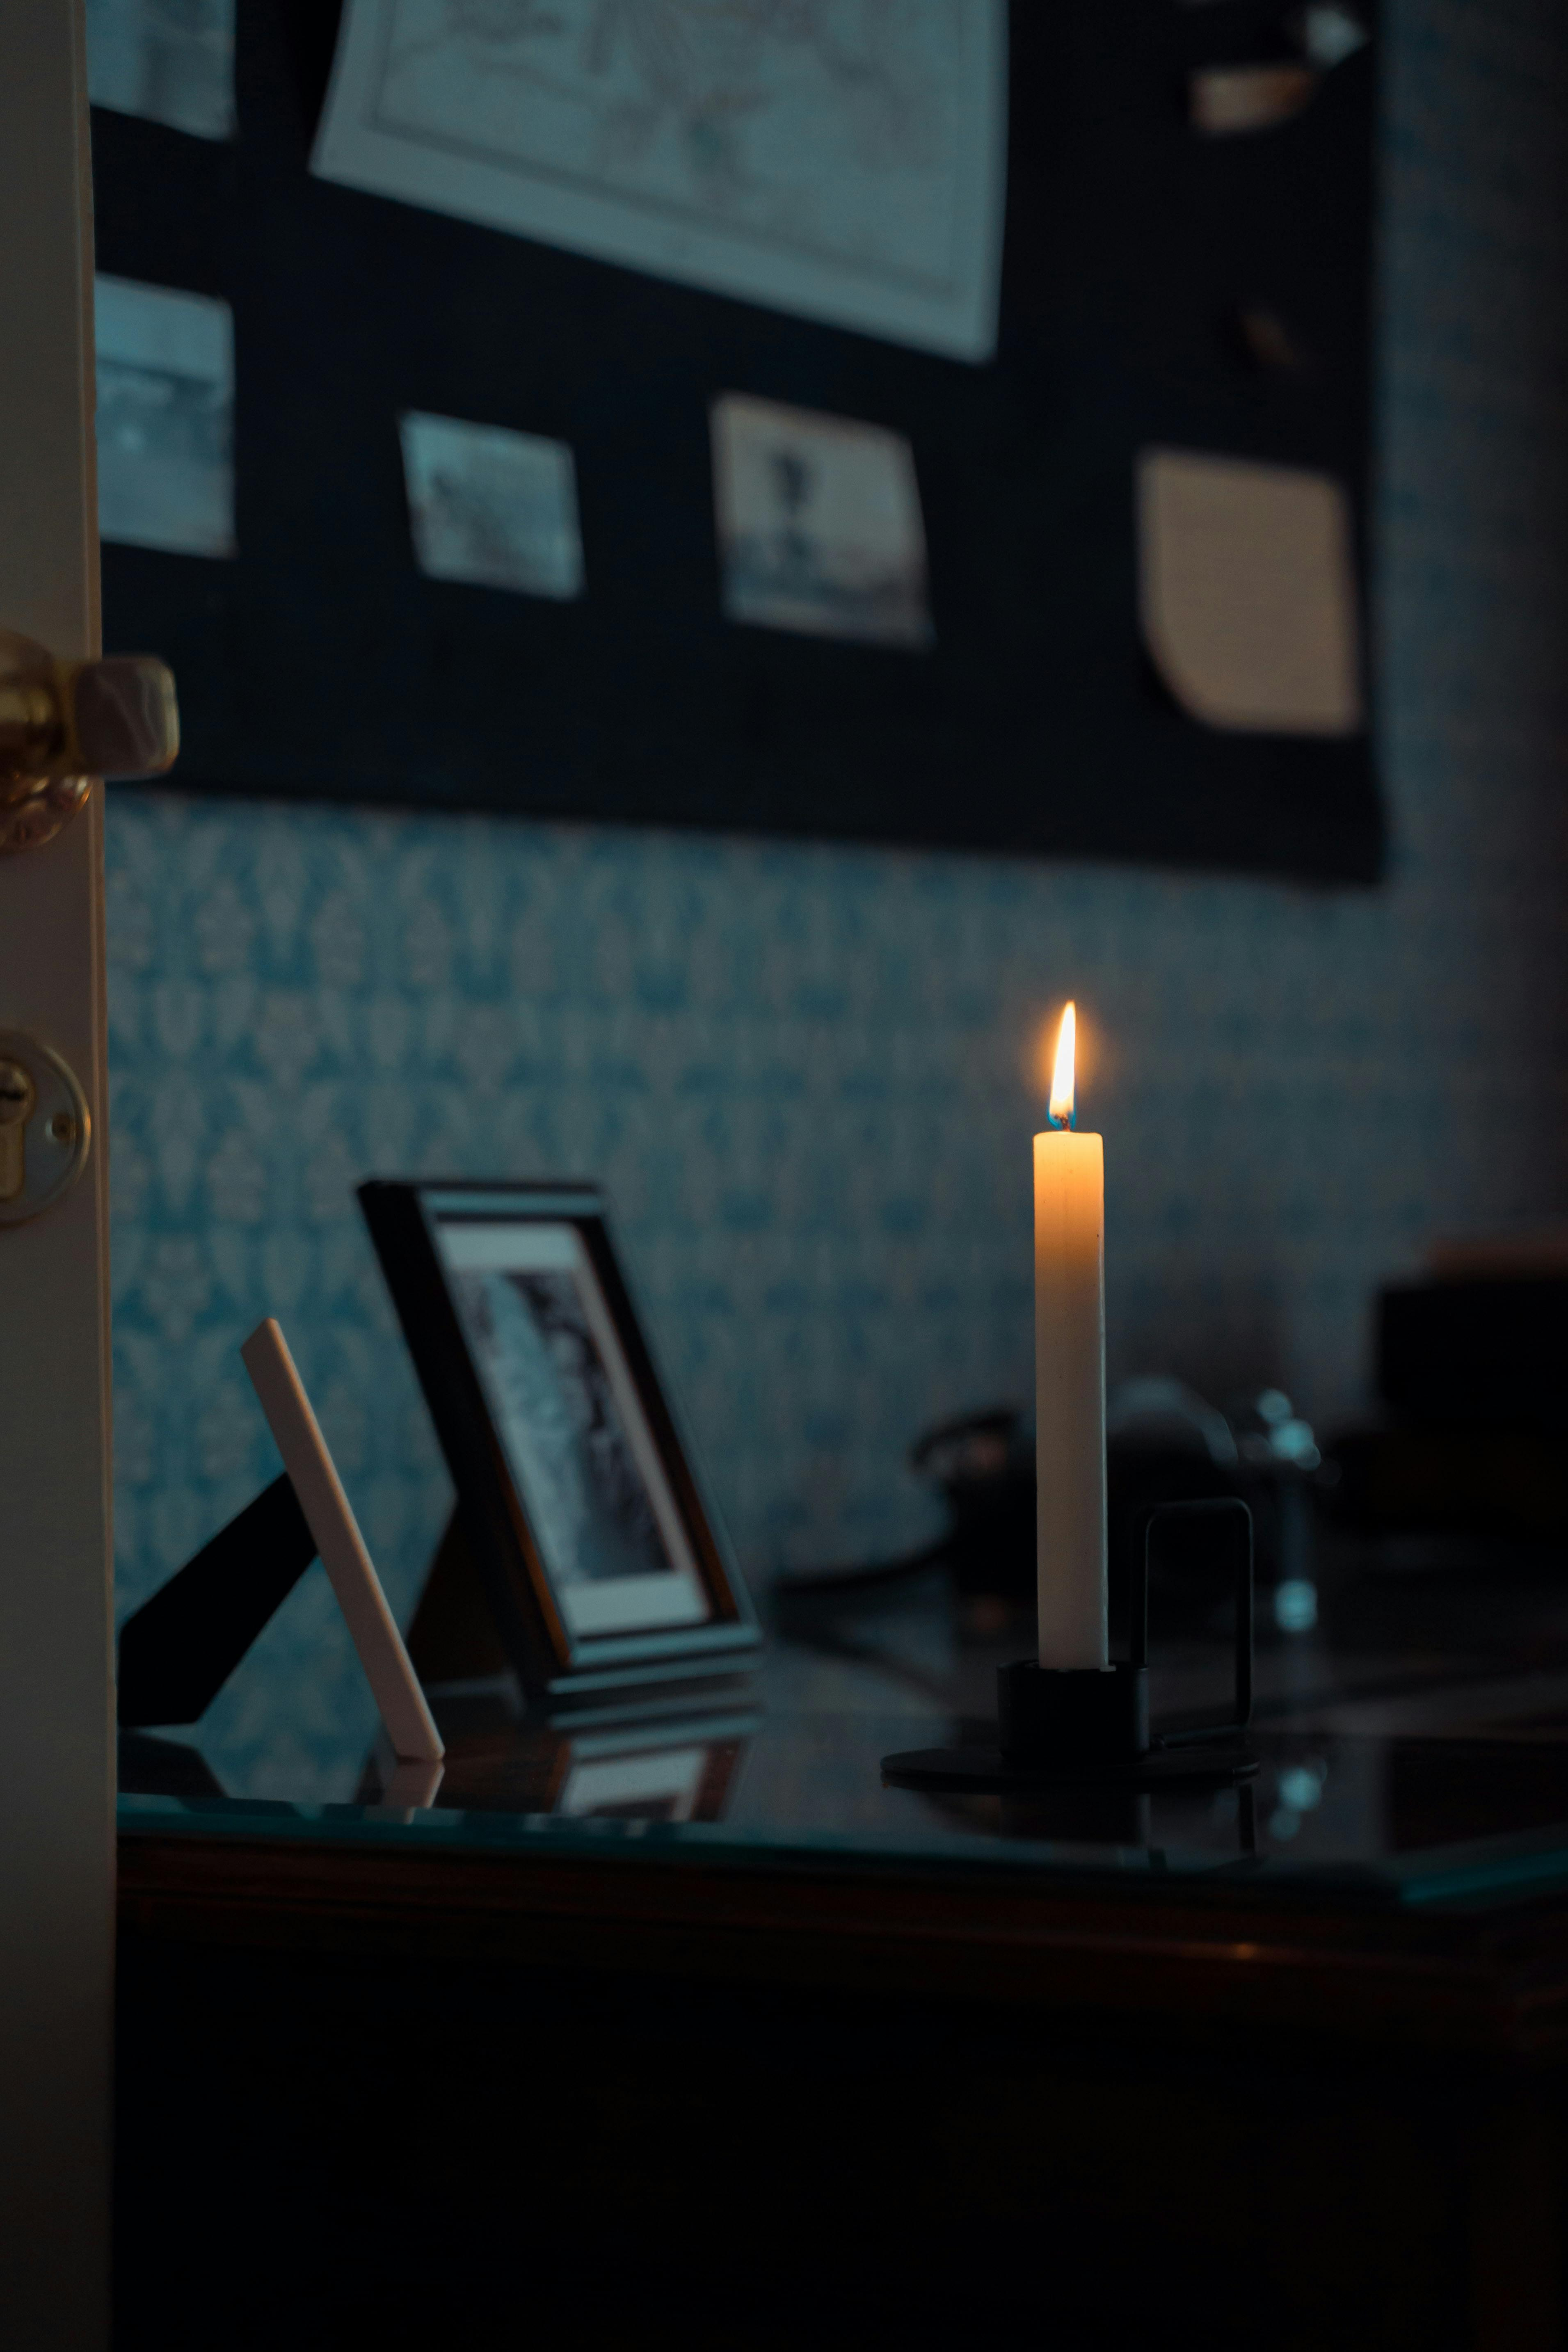Fire: (1027, 969, 1108, 1127)
